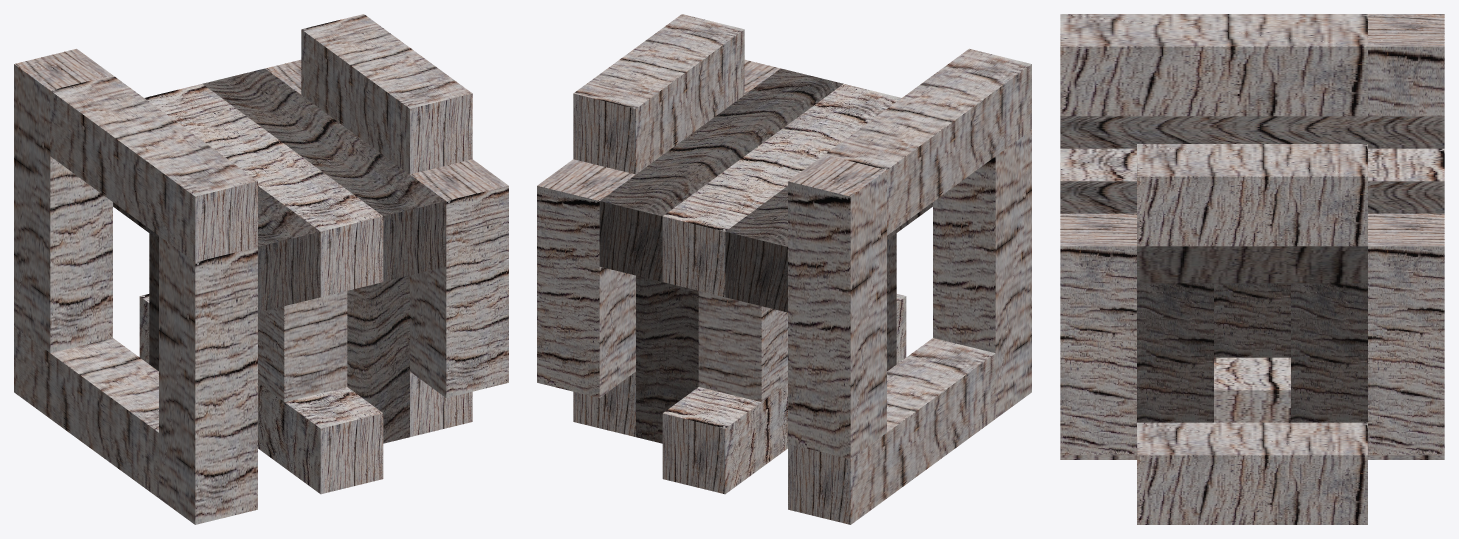
The model's file is 나무조각.glb.
3 renders of one model, left to right at view 1: azimuth 30°, elevation 25°; view 2: azimuth 150°, elevation 25°; view 3: azimuth 270°, elevation 25°, orthographic. The views are drawn at different scales.
Parts seen in each view (by area): view 1: ㅁ3, ㅁ4, ㅁ2, ㅇ4, ㅇ3, ㅠ1, ㅍ1, ㅁ1, ㅍ4, ㅠ3, ㅍ3, ㅜ1 (+3 smaller); view 2: ㅁ2, ㅁ3, ㅇ2, ㅁ4, ㅁ1, ㅇ3, ㅠ1, ㅍ1, ㅍ4, ㅠ2, ㅍ2, ㅜ1 (+3 smaller); view 3: ㅁ4, ㅇ1, ㅇ3, ㅇ2, ㅇ4, ㅠ1, ㅜ1, ㅠ2, ㅠ3, ㅁ2, ㅍ4, ㅜ2 (+1 smaller).
Boxes of the visible parts, box(x1,y1,x2,y2) form: ㅁ3: box(159, 236, 257, 524); ㅁ4: box(50, 75, 257, 262); ㅁ2: box(14, 48, 112, 353); ㅇ4: box(410, 159, 508, 397); ㅇ3: box(301, 14, 472, 174); ㅠ1: box(202, 68, 446, 281); ㅍ1: box(144, 84, 383, 296); ㅁ1: box(14, 327, 158, 497); ㅍ4: box(139, 294, 383, 494); ㅠ3: box(347, 275, 409, 443); ㅍ3: box(258, 291, 347, 401); ㅜ1: box(113, 186, 320, 312); ㅁ2: box(788, 155, 886, 459); ㅁ3: box(933, 130, 1031, 418); ㅇ2: box(537, 159, 635, 397); ㅁ4: box(824, 48, 1031, 235); ㅁ1: box(788, 338, 995, 524); ㅇ3: box(573, 14, 744, 174); ㅠ1: box(599, 68, 843, 281); ㅍ1: box(662, 84, 901, 296); ㅍ4: box(662, 294, 906, 494); ㅠ2: box(636, 275, 698, 443); ㅍ2: box(698, 291, 787, 401); ㅜ1: box(725, 186, 932, 312); ㅁ4: box(1060, 14, 1367, 116); ㅇ1: box(1137, 422, 1367, 524); ㅇ3: box(1137, 144, 1367, 246); ㅇ2: box(1368, 213, 1444, 455); ㅇ4: box(1060, 213, 1136, 455); ㅠ1: box(1060, 181, 1444, 283); ㅜ1: box(1060, 116, 1444, 148); ㅠ2: box(1291, 283, 1367, 422); ㅠ3: box(1137, 283, 1213, 422); ㅁ2: box(1368, 14, 1444, 116); ㅍ4: box(1060, 357, 1444, 459); ㅜ2: box(1214, 283, 1290, 357).
Size of the model in its own units: 10 by 10 by 10.
Materials: 2 (2 with a texture image).
